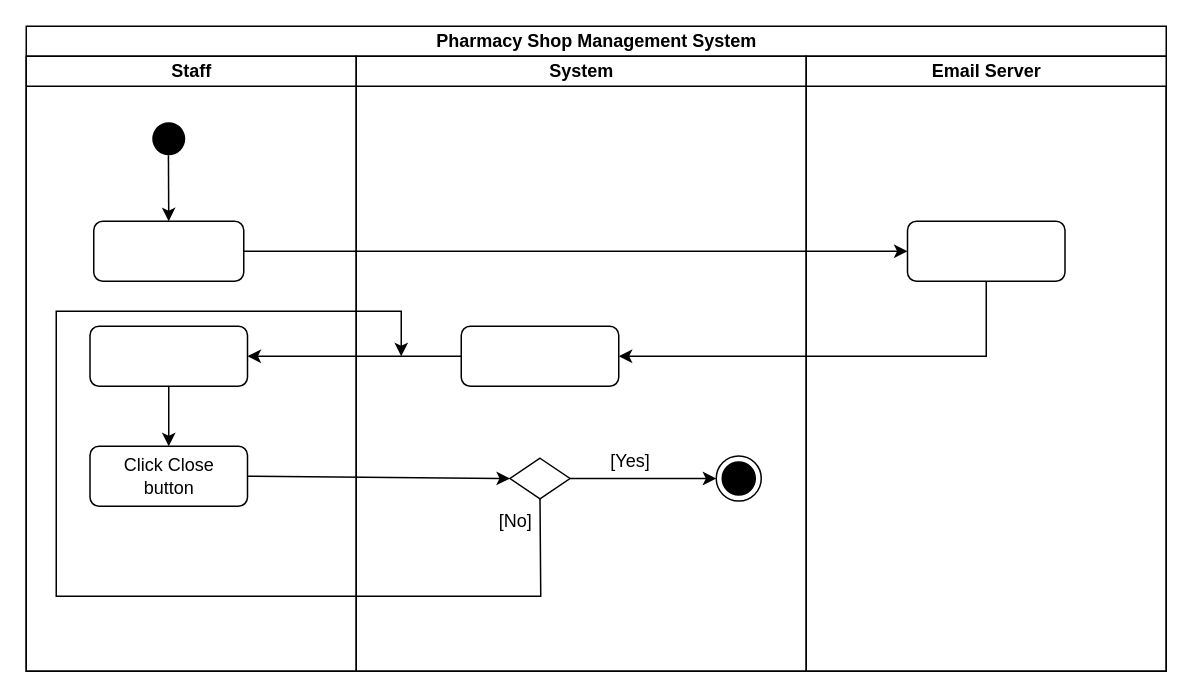
This 1193x698 diagram has some shape labels left out. Each missing label, with the centre of its shape:
"Choose the Email" belongs at point (168, 355).
"Display All Email" belongs at point (539, 355).
"View Email" belongs at point (168, 250).
